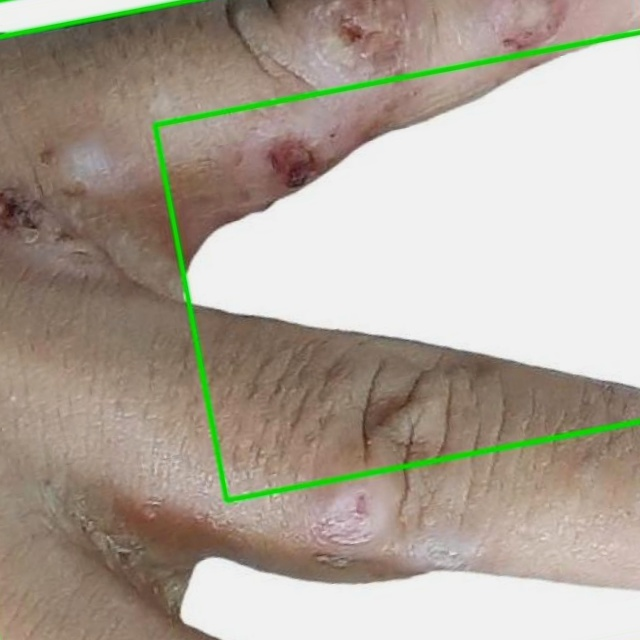Scabies: (0, 0, 639, 639), (155, 32, 639, 500)
